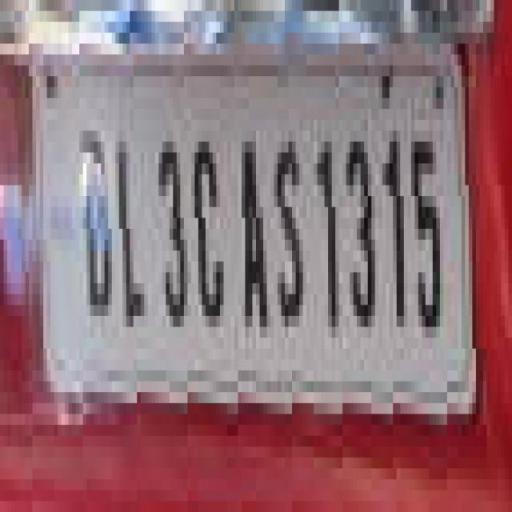number plate: (26, 54, 508, 414)
